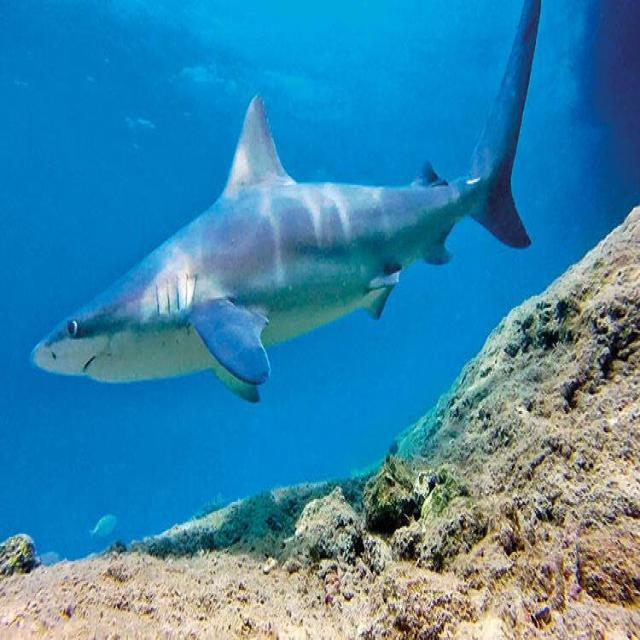shark: (32, 0, 540, 402)
